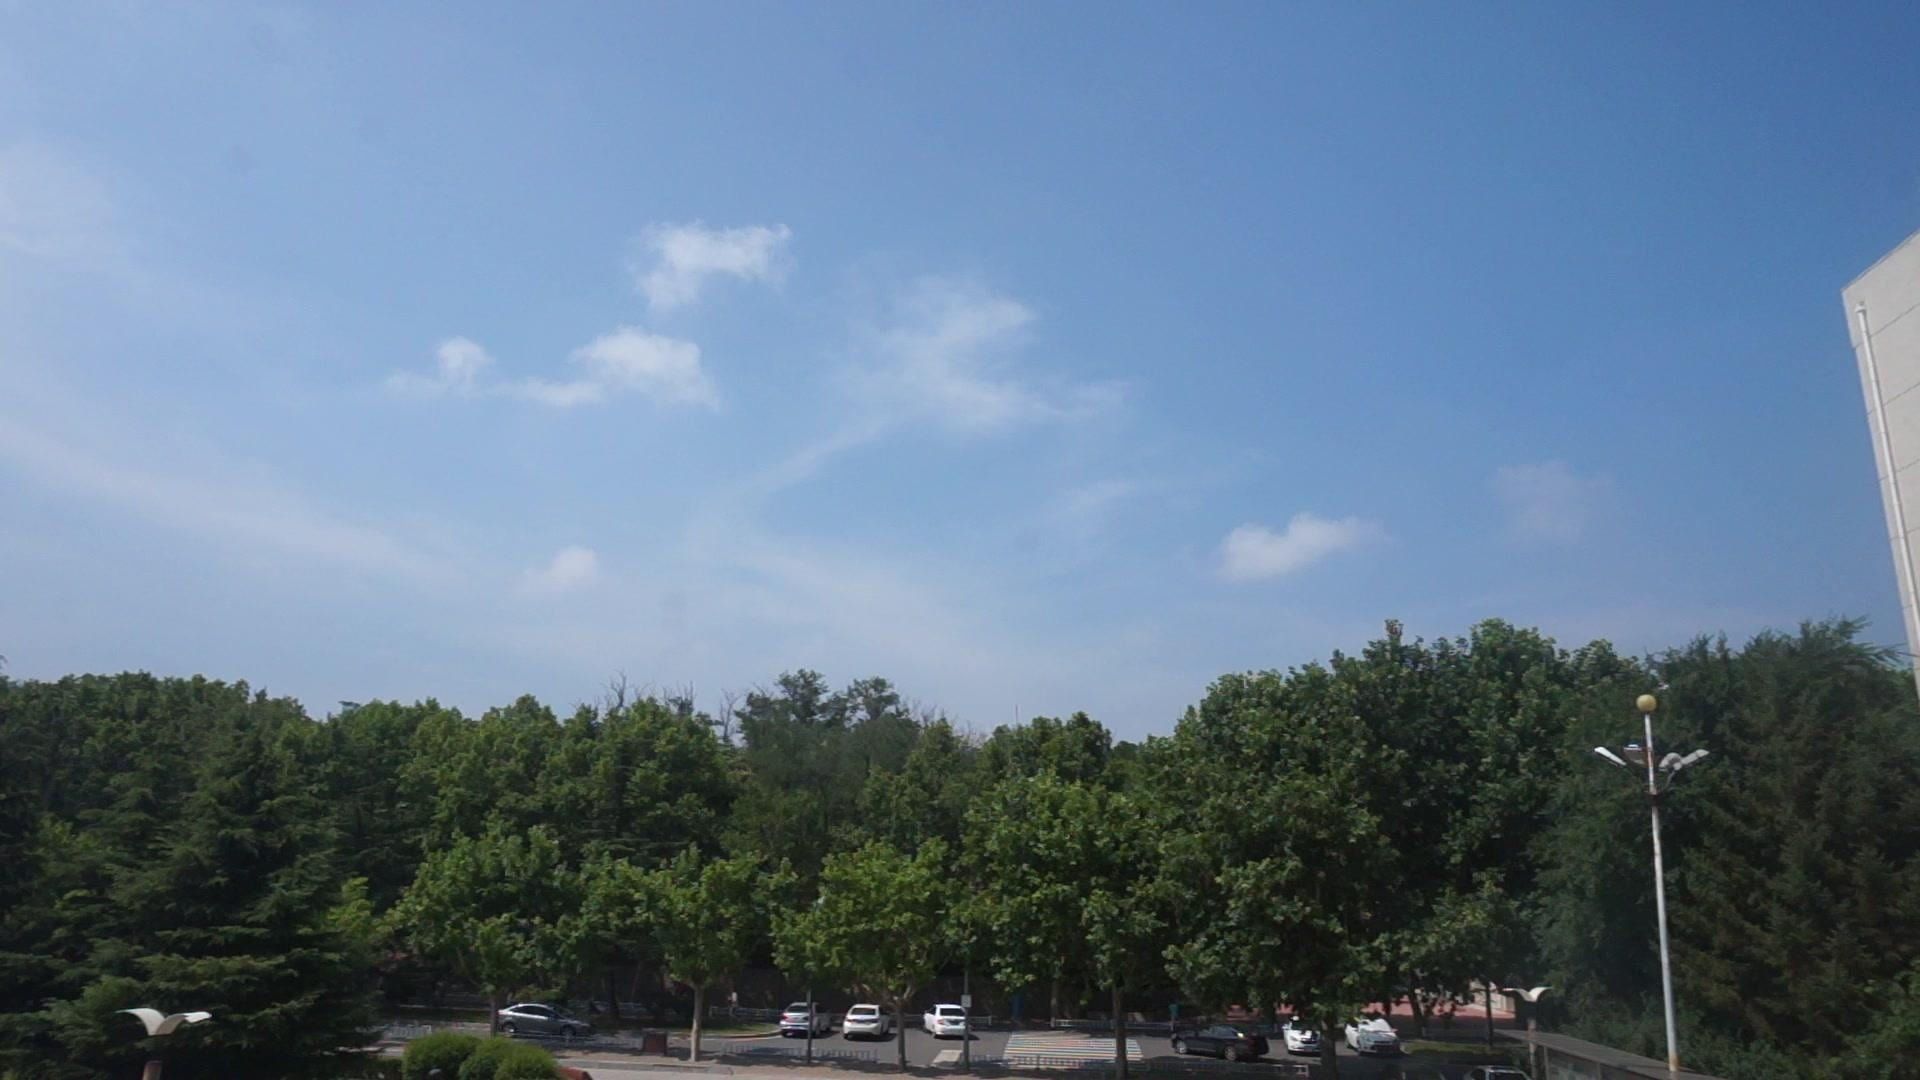UAV: (1249, 673, 1267, 684)
